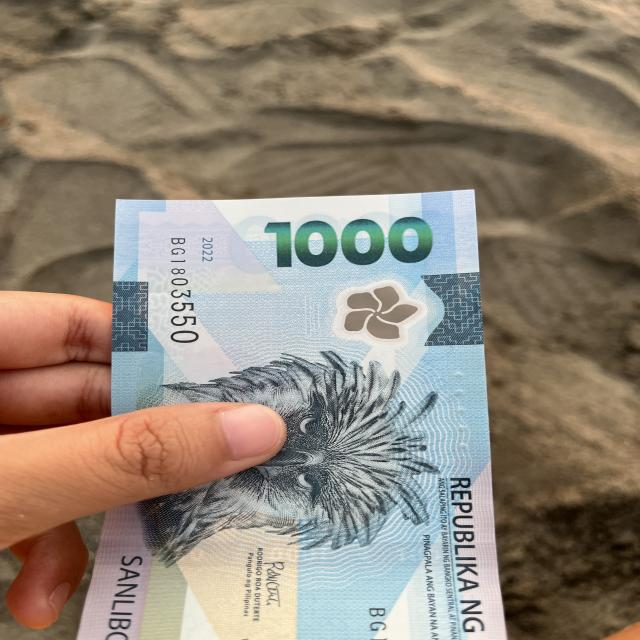eagle: (144, 340, 440, 552)
sampaguita: (318, 272, 424, 346)
